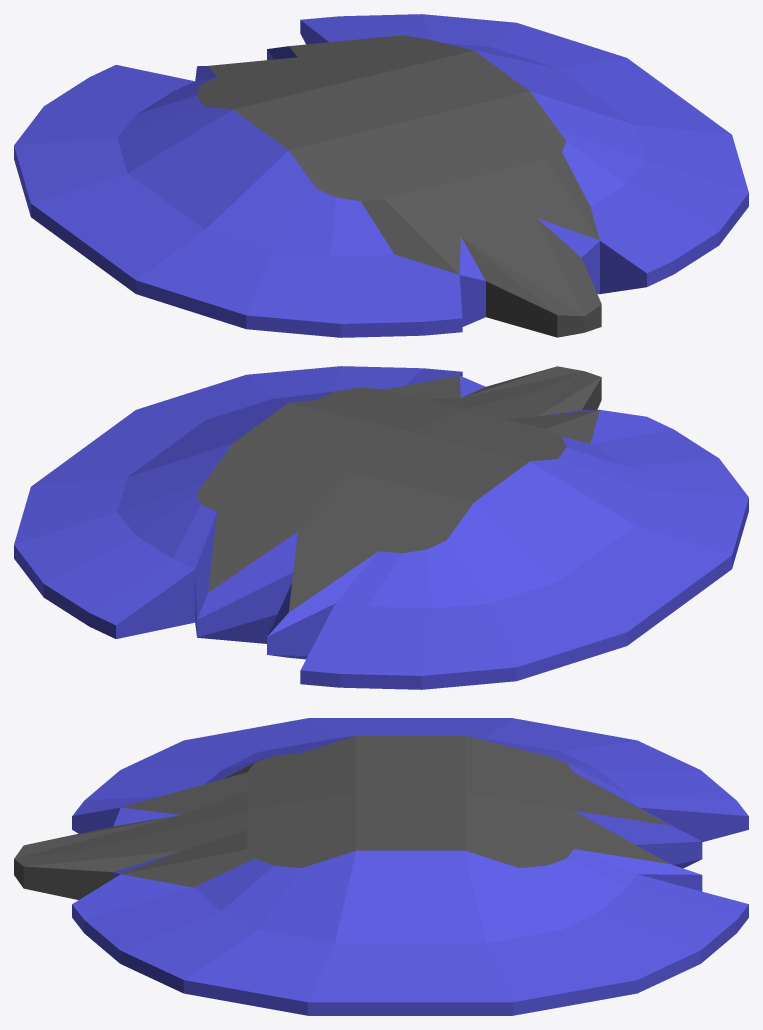
File: AlienAutoPilot.glb
The picture shows the model from 3 angles, top to bottom: view 1: azimuth 30°, elevation 25°; view 2: azimuth 150°, elevation 25°; view 3: azimuth 270°, elevation 25°; orthographic projection. The views are drawn at different scales.
Parts seen in each view (by area): view 1: Cube; view 2: Cube; view 3: Cube.
Boxes of the visible parts, x1,y1,x2,y2 form: Cube: (14, 14, 748, 337); Cube: (14, 366, 748, 689); Cube: (14, 718, 748, 1015).
Bounding box in the file's own units: 0.7677 × 0.1639 × 0.8391.
